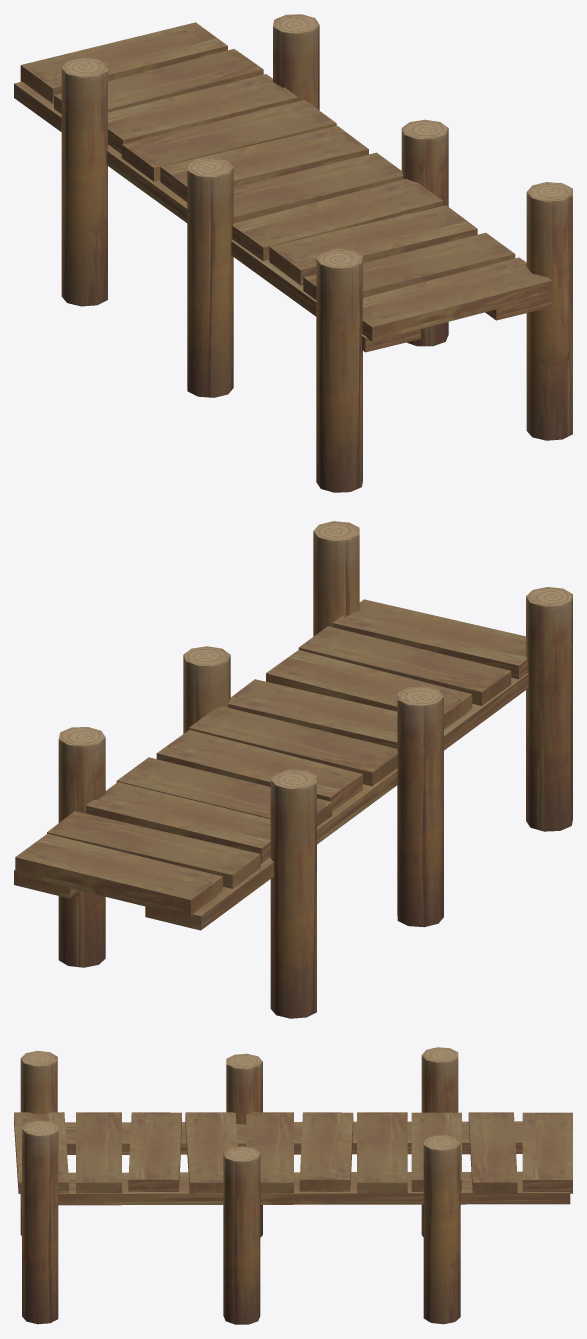
File: dock_a.fbx
3 renders of one model, top to bottom at view 1: azimuth 30°, elevation 25°; view 2: azimuth 150°, elevation 25°; view 3: azimuth 270°, elevation 25°, orthographic. The views are drawn at different scales.
Visible parts, largest first — view 1: jetty_a; view 2: jetty_a; view 3: jetty_a.
Boxes of the visible parts, bbox=[...] form: jetty_a: bbox=[14, 14, 572, 492]; jetty_a: bbox=[14, 521, 572, 1018]; jetty_a: bbox=[14, 1047, 572, 1324].
Size of the model in its own units: 647 by 583 by 1569.
